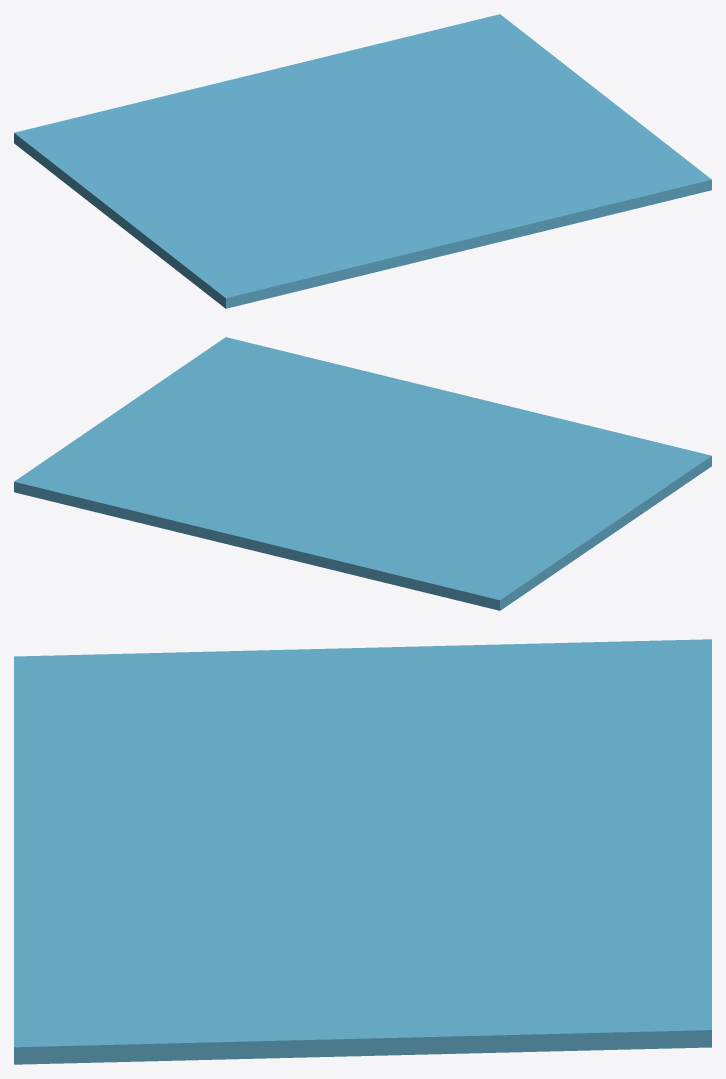
3 renders of one model, top to bottom at view 1: azimuth 30°, elevation 25°; view 2: azimuth 150°, elevation 25°; view 3: azimuth 270°, elevation 25°, orthographic. The views are drawn at different scales.
Parts seen in each view (by area): view 1: pb_Mesh-151534(Clone)(Clone)(Clone)(Clone)(Clone)(Clone)(Clo; view 2: pb_Mesh-151534(Clone)(Clone)(Clone)(Clone)(Clone)(Clone)(Clo; view 3: pb_Mesh-151534(Clone)(Clone)(Clone)(Clone)(Clone)(Clone)(Clo.
Boxes of the visible parts, box(x1,y1,x2,y2) form: pb_Mesh-151534(Clone)(Clone)(Clone)(Clone)(Clone)(Clone)(Clo: box(14, 14, 711, 308); pb_Mesh-151534(Clone)(Clone)(Clone)(Clone)(Clone)(Clone)(Clo: box(14, 337, 711, 610); pb_Mesh-151534(Clone)(Clone)(Clone)(Clone)(Clone)(Clone)(Clo: box(14, 639, 711, 1064).
Size of the model in its own units: 188 by 7.75 by 142.
